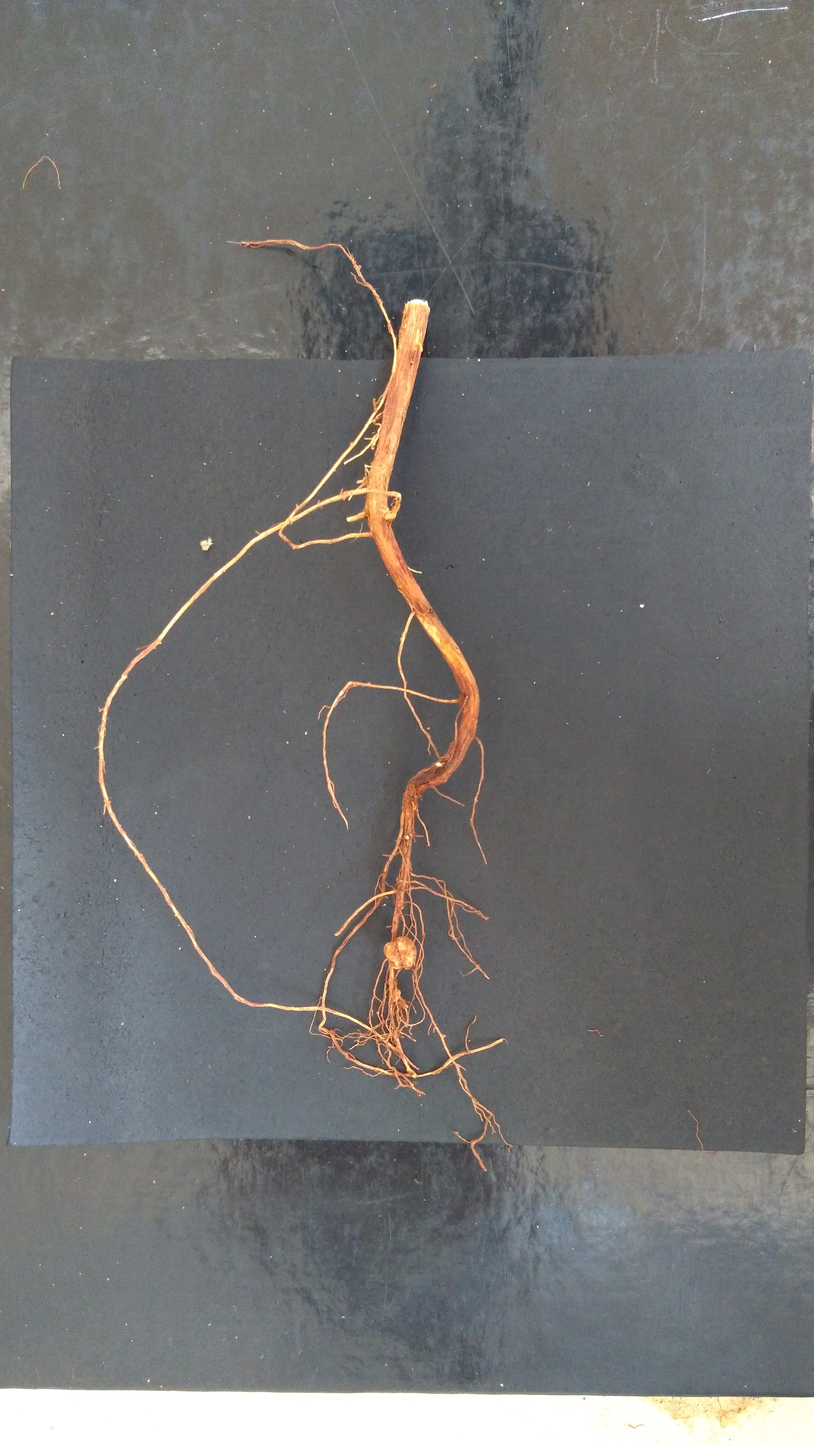nodule: (395, 935, 417, 972), (382, 940, 405, 972), (391, 988, 401, 1003)
